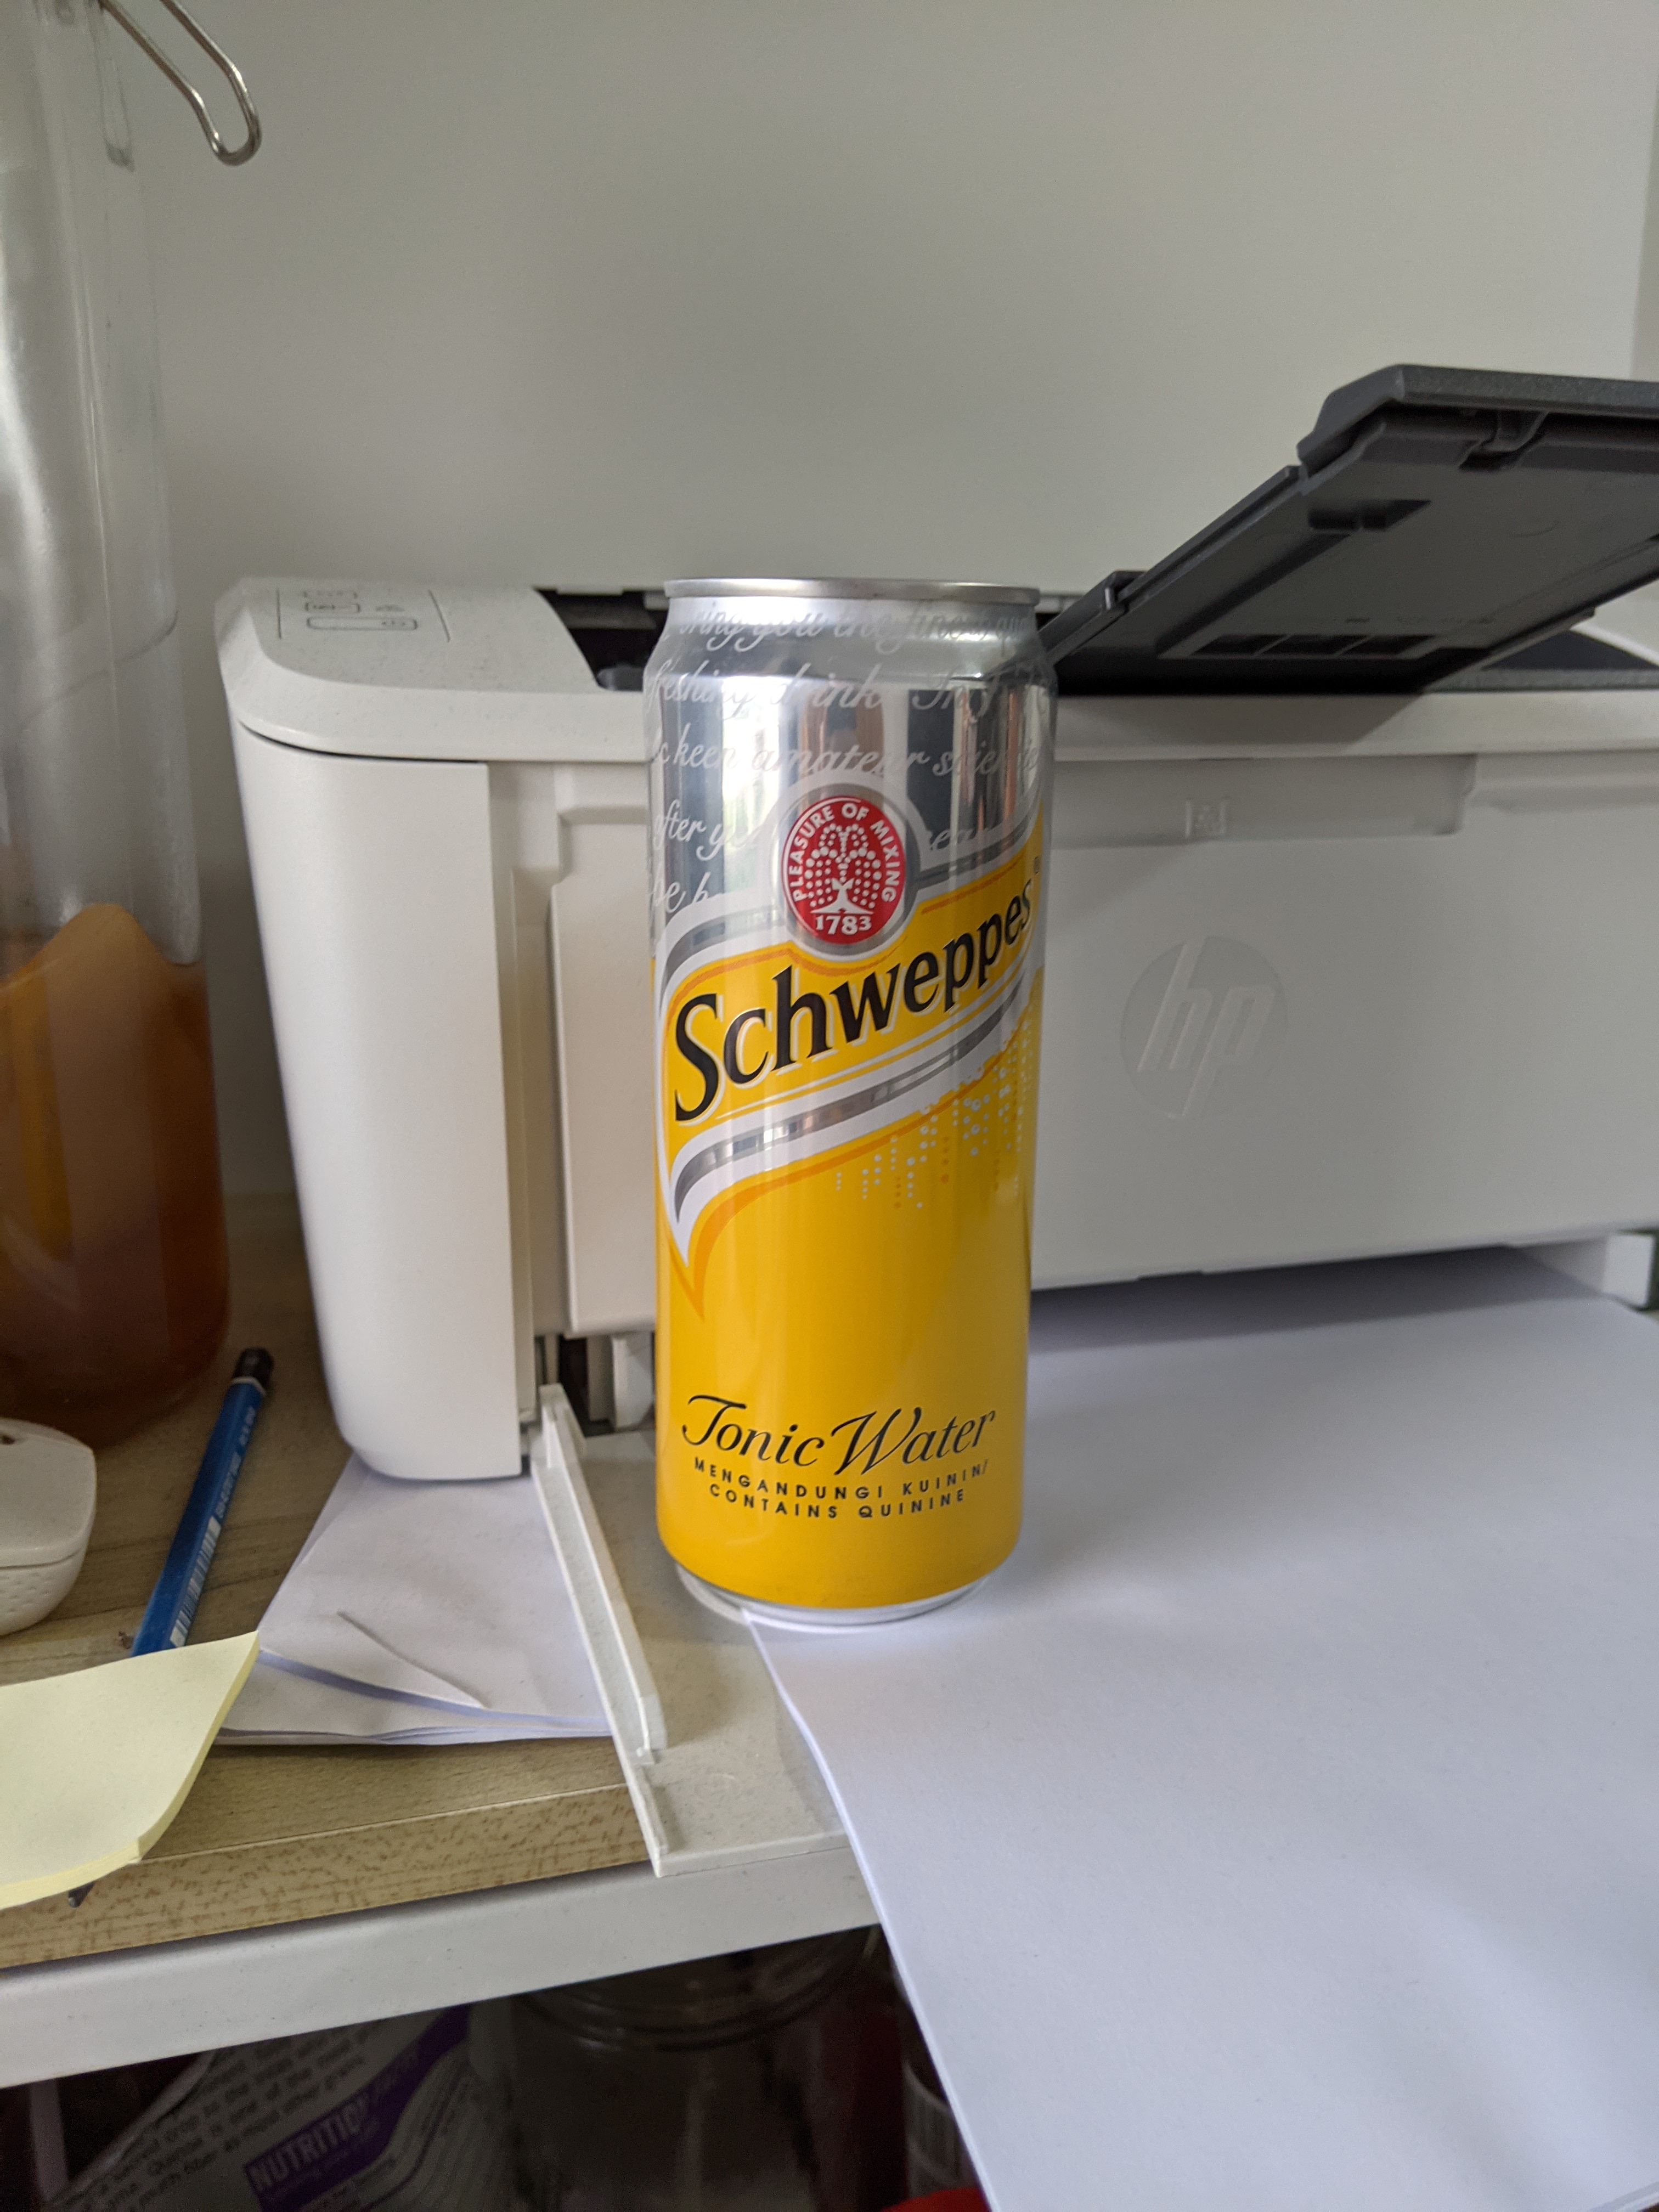schweppes drink can tonic water: (627, 556, 1075, 1649)
